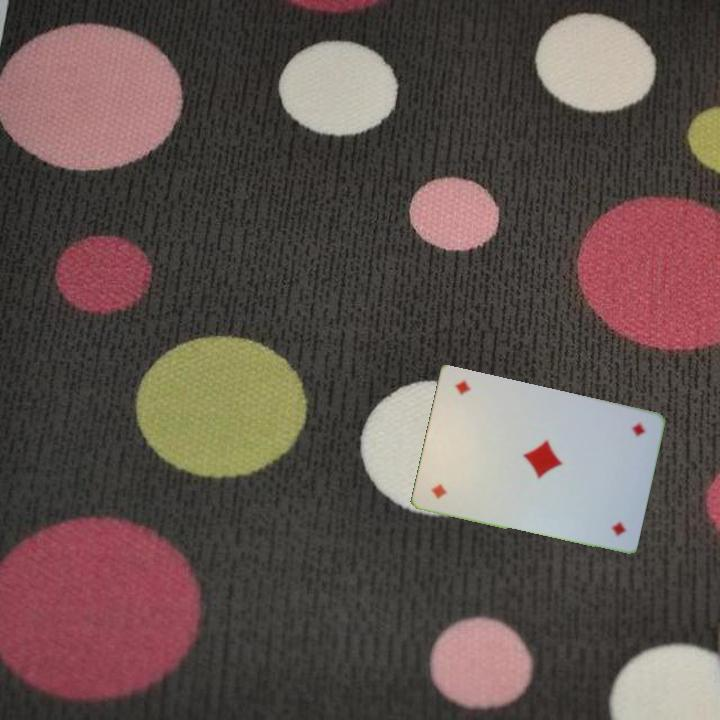d_a.png: (584, 409, 655, 486), (421, 435, 492, 512)
